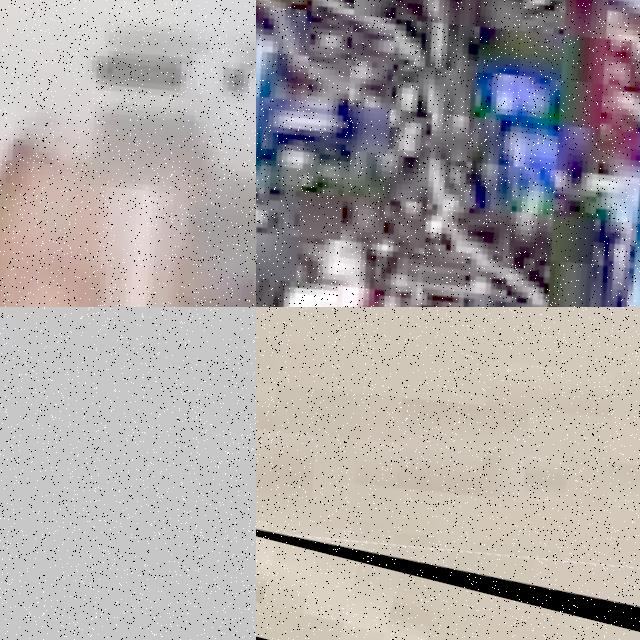drone: (256, 307, 640, 640), (256, 0, 640, 307), (0, 0, 256, 307)
